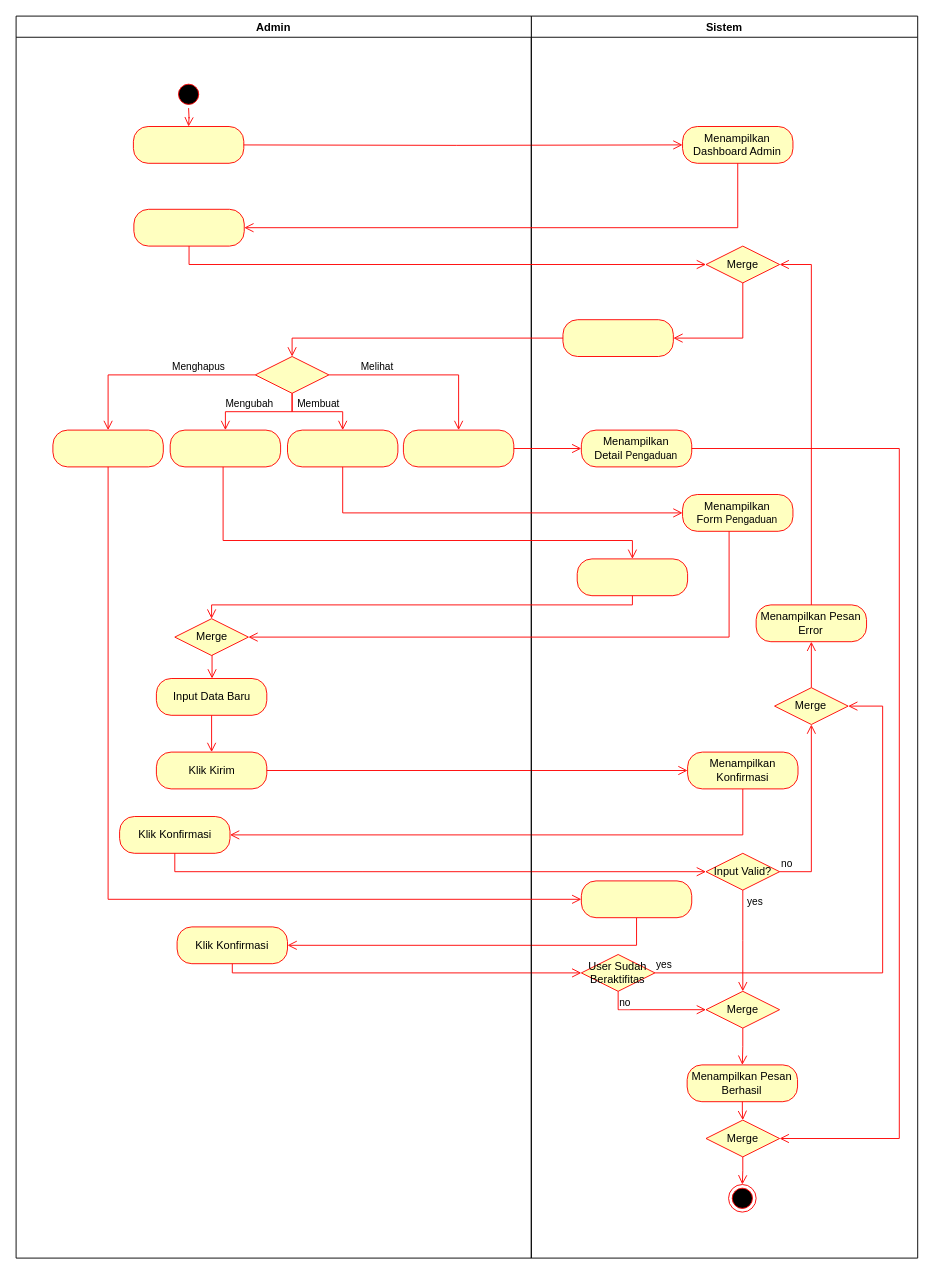
This 934x1274 diagram has some shape labels left out. Here are the shapes that lost their labels. From the top down, the centre of each, then its label:
At point (188, 144): "Login".
At point (188, 227): "Klik Menu Pengaduan".
At point (617, 337): "Menampilkan Halaman Pengaduan dan Daftar Pengaduan".
At point (291, 374): "Kegiatan?".
At point (107, 448): "Klik Tombol Hapus".
At point (225, 448): "Klik Tombol Edit".
At point (342, 448): "Klik Tombol Tambah Pengaduan".
At point (458, 448): "Klik Tombol Detail".
At point (632, 577): "Menampilkan Form Pengaduan Dengan Data".
At point (636, 899): "Menampilakan Pesan Konfirmasi".
